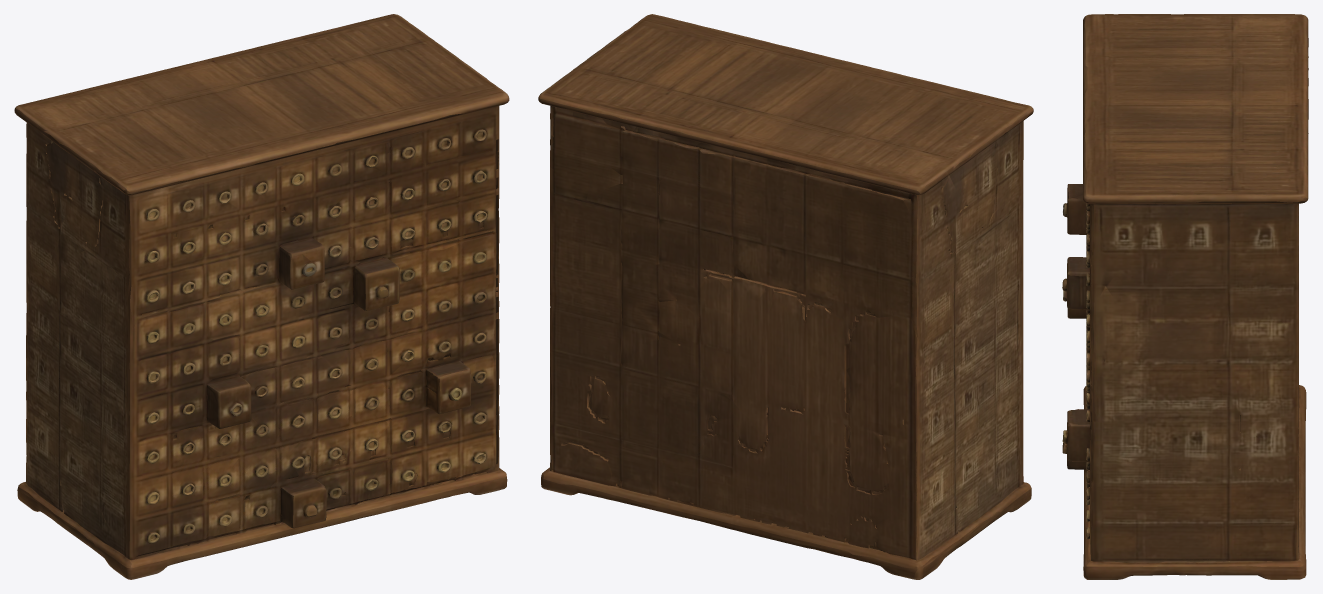
The model's file is herbal-cabinet.glb.
The picture shows the model from 3 angles, left to right: view 1: azimuth 30°, elevation 25°; view 2: azimuth 150°, elevation 25°; view 3: azimuth 270°, elevation 25°; orthographic projection. The views are drawn at different scales.
Parts seen in each view (by area): view 1: geometry_0; view 2: geometry_0; view 3: geometry_0.
Part boxes in pixels (box(x1,y1,x2,y2)): geometry_0: box(14, 14, 509, 579); geometry_0: box(538, 14, 1033, 579); geometry_0: box(1062, 14, 1308, 579).
Bounding box in the file's own units: 1.85 × 1.8 × 1.04.
1 material, 1 textured.
